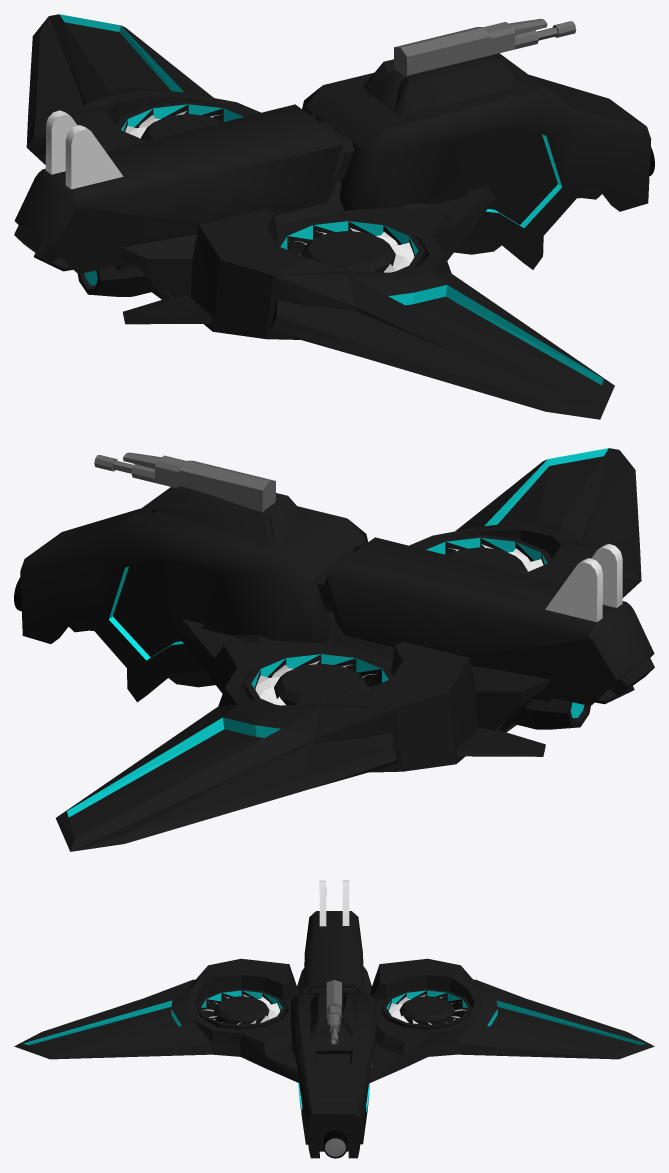
Rendered from AirDroneblend.dae.
The picture shows the model from 3 angles, top to bottom: view 1: azimuth 30°, elevation 25°; view 2: azimuth 150°, elevation 25°; view 3: azimuth 270°, elevation 25°; orthographic projection. The views are drawn at different scales.
Parts seen in each view (by area): view 1: Mesh_0814_001, Drone, Drone_001, Mesh_0822_001, propller_1; view 2: Drone, Mesh_0814_001, Drone_001, Mesh_0822_001, Propllier_2; view 3: Drone, Mesh_0814_001, Drone_001, Mesh_0822_001, Circle_001.
Part boxes in pixels (x1,y1,x2,y2): Mesh_0814_001: [14, 53, 651, 299]; Drone: [26, 14, 614, 419]; Drone_001: [394, 18, 576, 76]; Mesh_0822_001: [45, 110, 123, 189]; propller_1: [288, 228, 414, 272]; Drone: [55, 448, 641, 851]; Mesh_0814_001: [20, 486, 654, 732]; Drone_001: [94, 452, 275, 511]; Mesh_0822_001: [545, 544, 622, 622]; Propllier_2: [255, 660, 376, 705]; Drone: [14, 958, 654, 1083]; Mesh_0814_001: [291, 911, 376, 1158]; Drone_001: [326, 980, 341, 1044]; Mesh_0822_001: [319, 880, 349, 926]; Circle_001: [324, 1130, 346, 1158].
Size of what is drawn, in the model's own units: 4.07 by 6.26 by 1.5.
